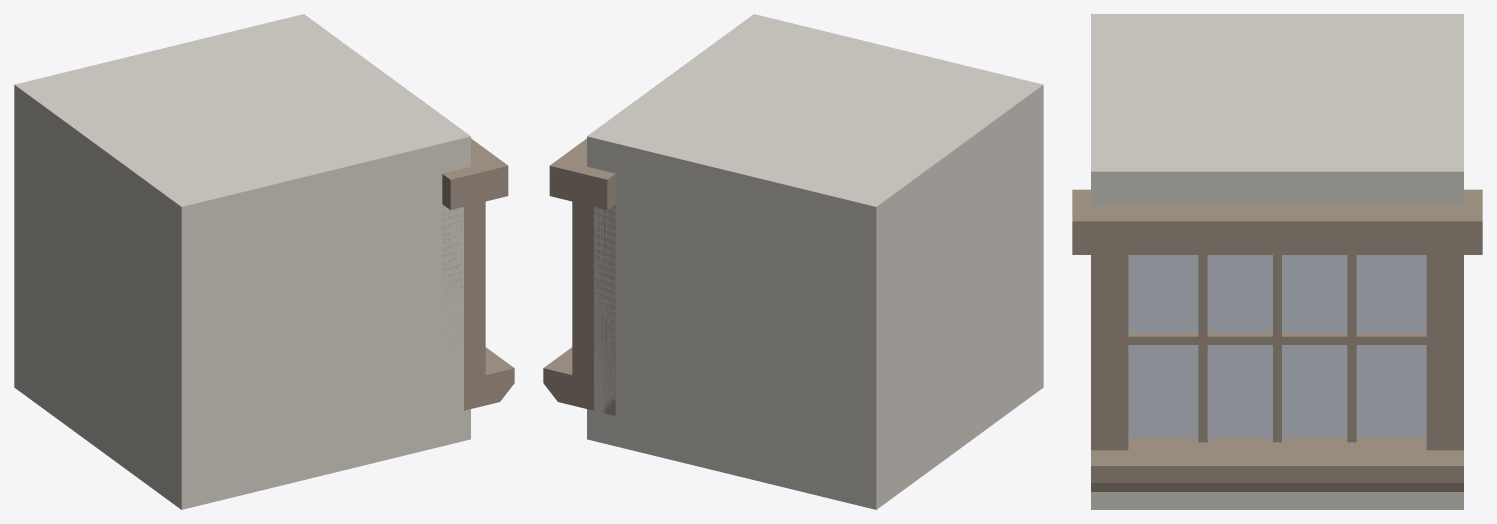
The model's file is Stucco_Window_Double_Narrow.glb.
The picture shows the model from 3 angles, left to right: view 1: azimuth 30°, elevation 25°; view 2: azimuth 150°, elevation 25°; view 3: azimuth 270°, elevation 25°; orthographic projection. The views are drawn at different scales.
Parts seen in each view (by area): view 1: object1, object2; view 2: object1, object2; view 3: object1, object2, object3.
Boxes of the visible parts, <box> form: object1: <box>14,14,470,509</box>; object2: <box>442,138,514,410</box>; object1: <box>587,14,1043,509</box>; object2: <box>543,138,615,415</box>; object1: <box>1091,14,1463,509</box>; object2: <box>1072,189,1482,491</box>; object3: <box>1128,255,1426,442</box>.
Size of the model in its own units: 1.15 by 1 by 1.1.
